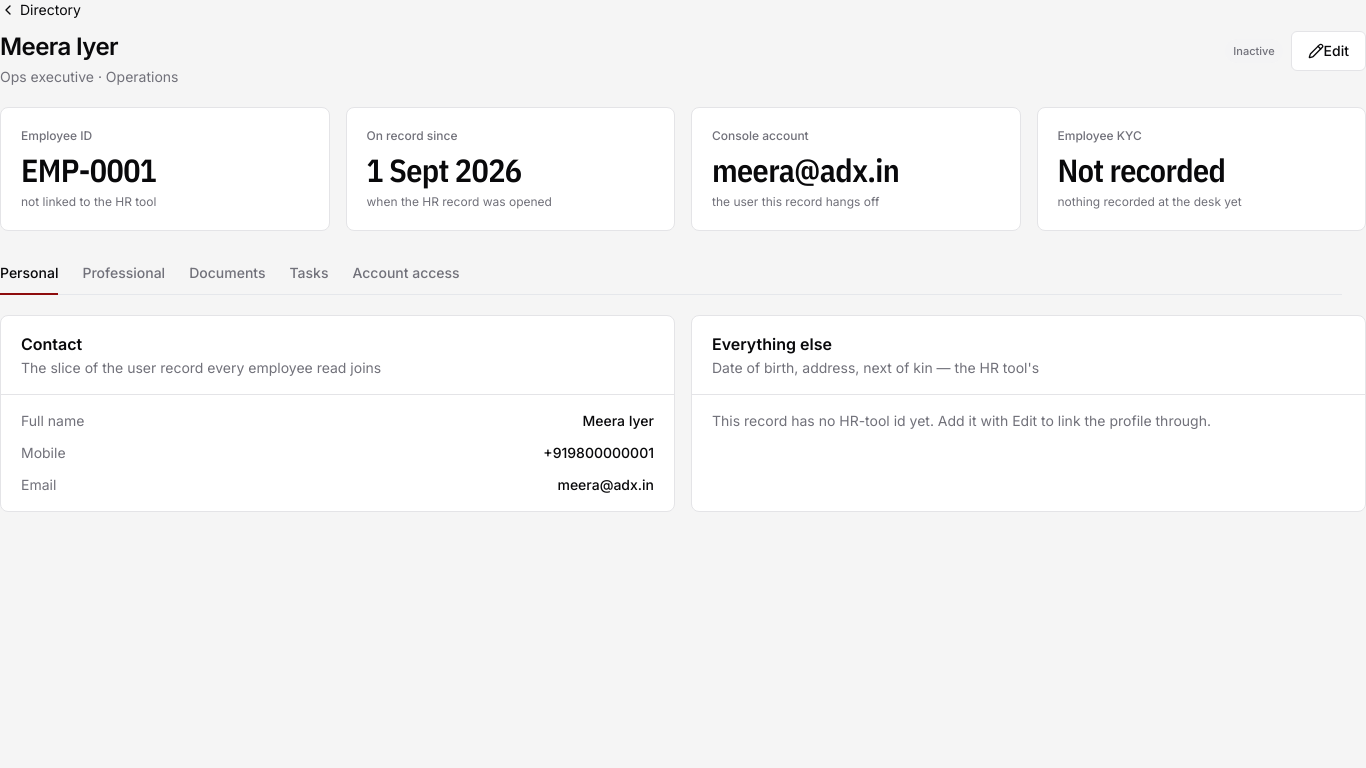
Test: Remove HR record › an already-deactivated record that is refused says there is nothing more to do
Press the mouse on the tab "Account access": coordinates (406, 277) top-left (352, 259), bottom-right (460, 295)
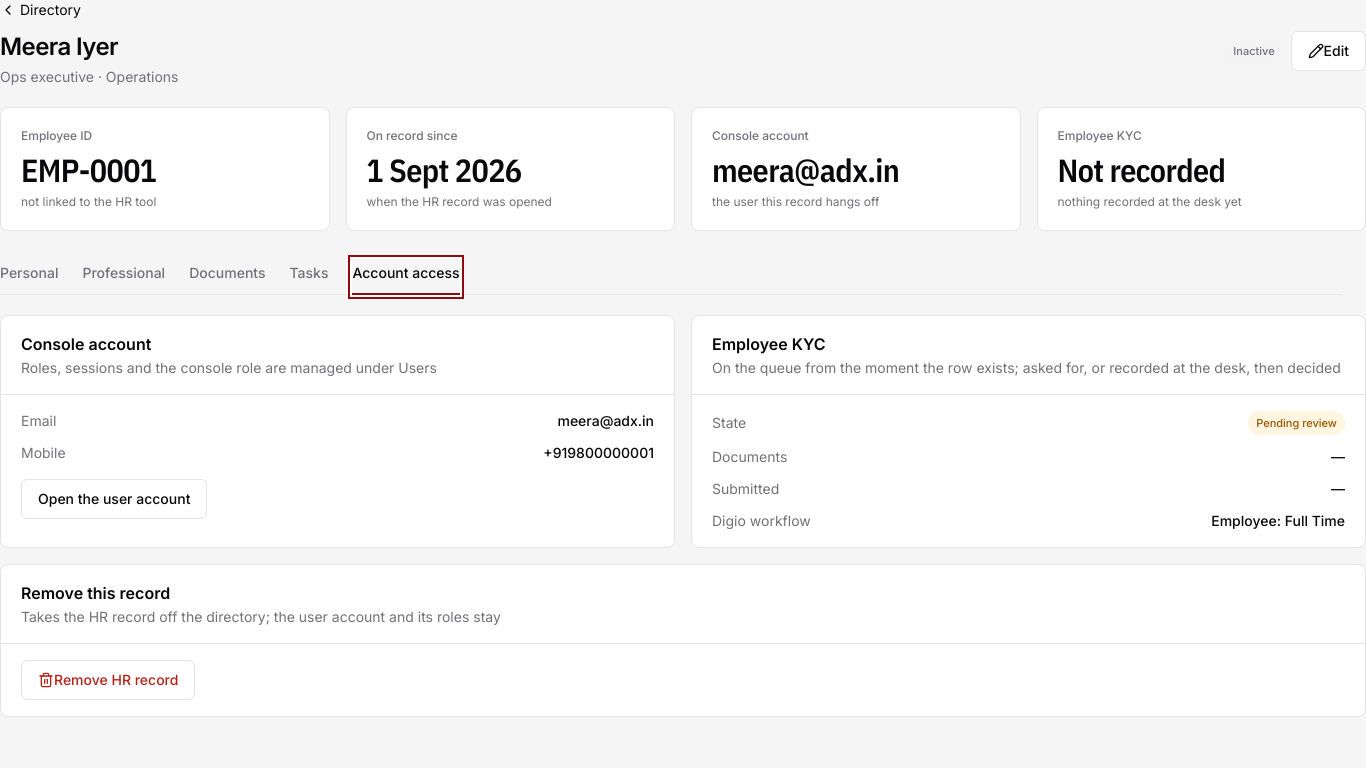
Click the button "Remove HR record": coordinates (108, 680) top-left (21, 660), bottom-right (195, 700)
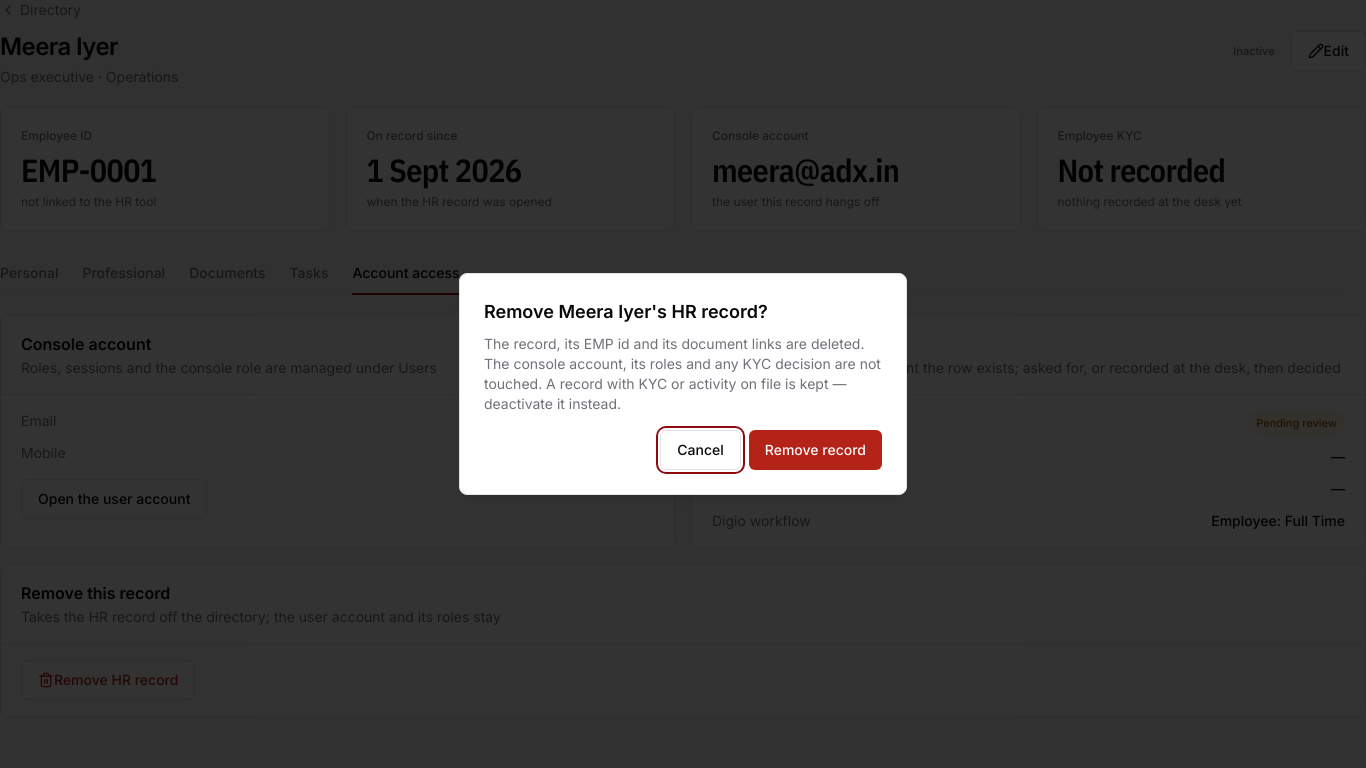
Click the button "Remove record": coordinates (815, 450) top-left (749, 430), bottom-right (882, 470)
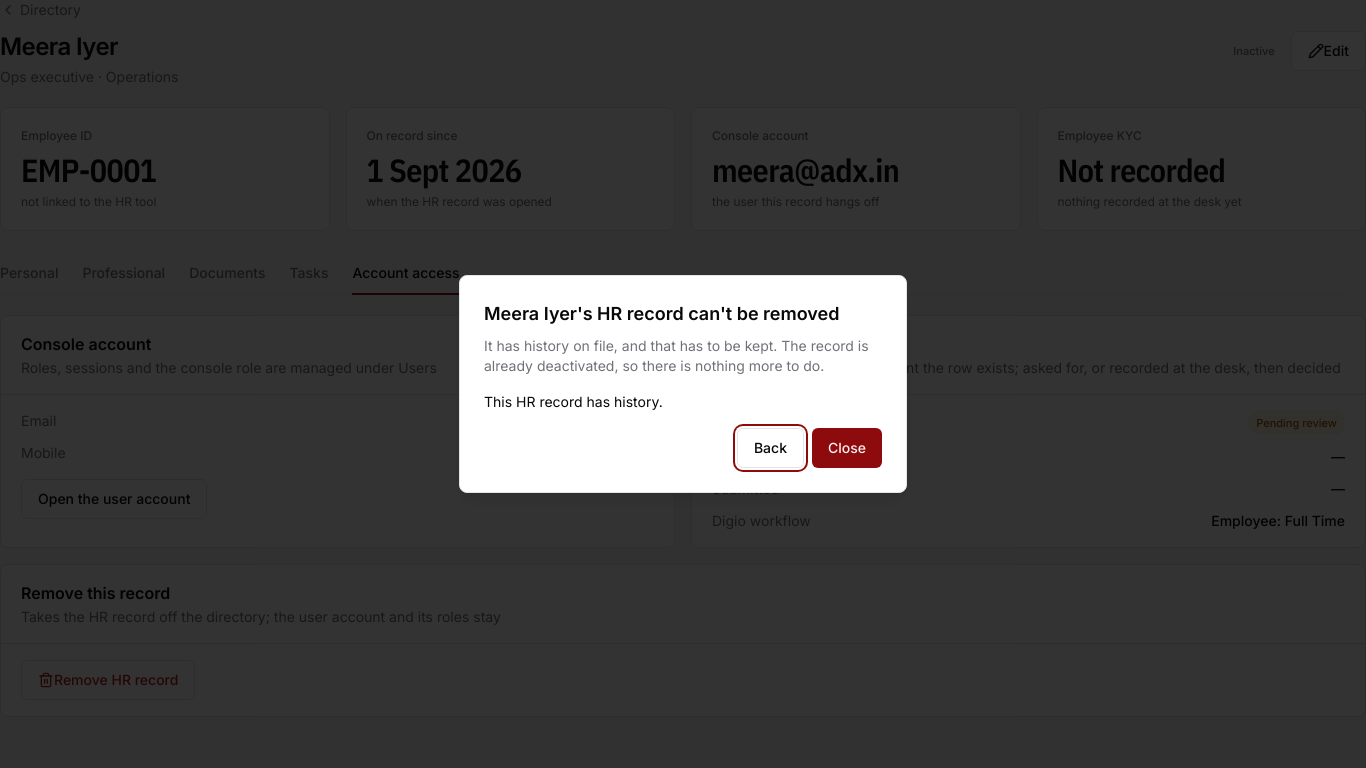
Result: the text "already deactivated" is shown at top-left (484, 337), bottom-right (869, 374)
Result: the text with test id "employee-remove-blockers" reads "This HR record has history." at top-left (484, 393), bottom-right (663, 410)
